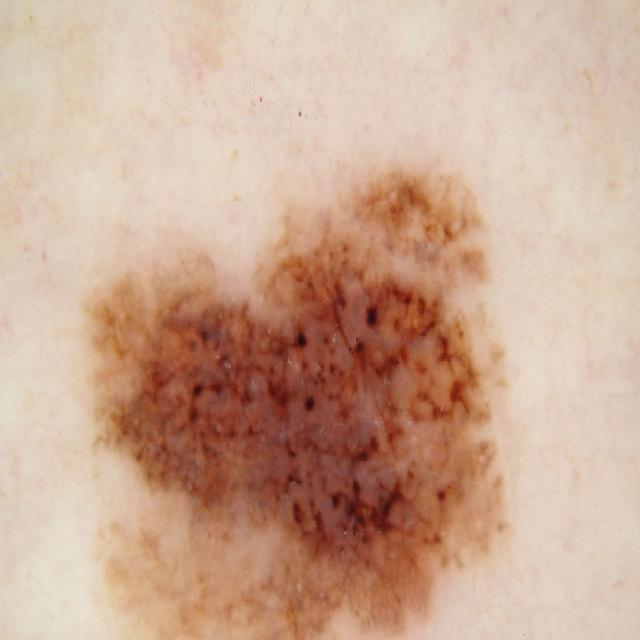Melanoma: (49, 153, 616, 640)
